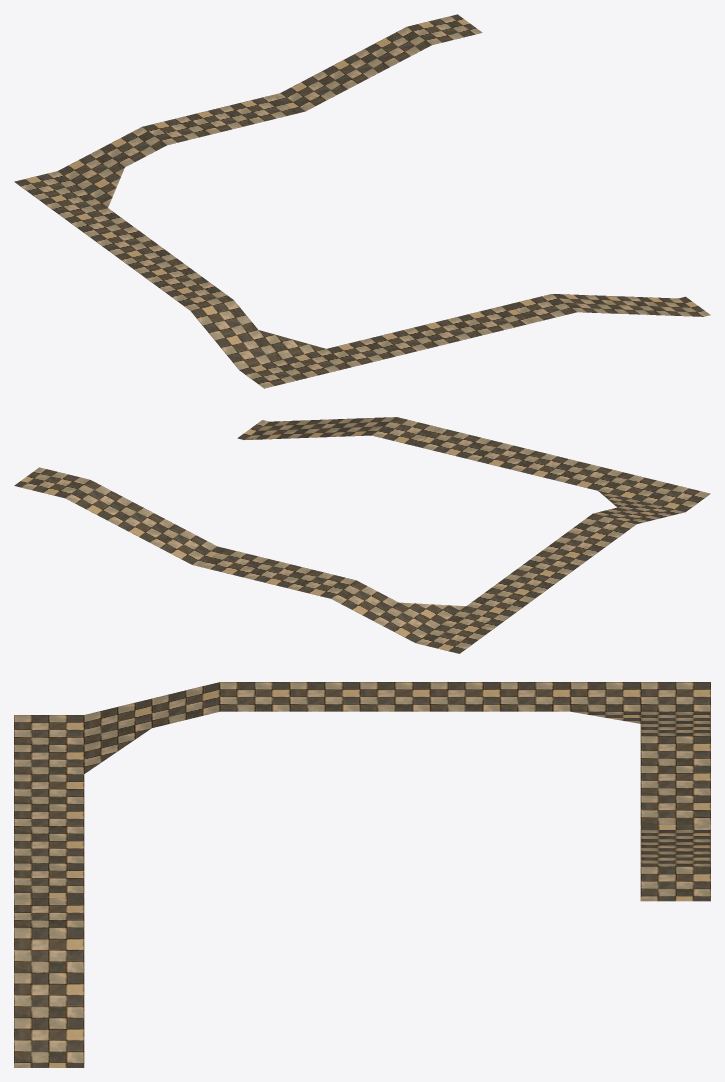
The model's file is CheckPoint1.FBX.
The picture shows the model from 3 angles, top to bottom: view 1: azimuth 30°, elevation 25°; view 2: azimuth 150°, elevation 25°; view 3: azimuth 270°, elevation 25°; orthographic projection. The views are drawn at different scales.
Visible parts, largest first — view 1: Plane_12x12_094; view 2: Plane_12x12_094; view 3: Plane_12x12_094.
Boxes of the visible parts, x1,y1,x2,y2 form: Plane_12x12_094: [14, 14, 710, 388]; Plane_12x12_094: [14, 417, 710, 653]; Plane_12x12_094: [14, 682, 710, 1067].
Size of the model in its own units: 123 by 31.06 by 119.
Materials: 1 (1 with a texture image).
